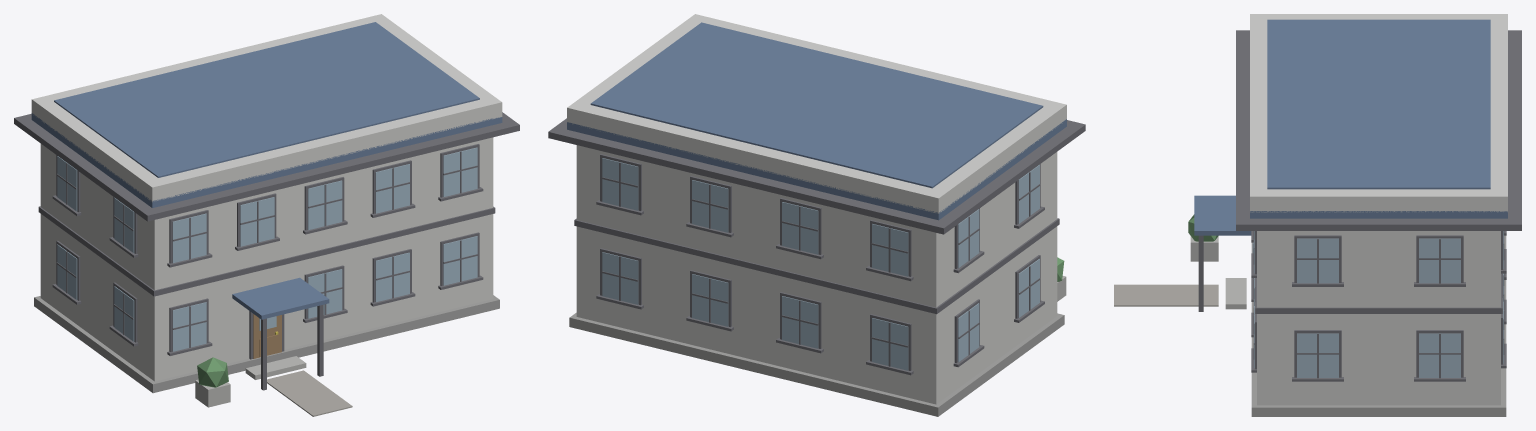
Rendered from Villa_10.glb.
3 views of the same model, side by side, from view 1: azimuth 30°, elevation 25°; view 2: azimuth 150°, elevation 25°; view 3: azimuth 270°, elevation 25° (orthographic). The views are drawn at different scales.
Parts seen in each view (by area): view 1: Villa_10; view 2: Villa_10; view 3: Villa_10.
Part boxes in pixels (<box>): Villa_10: <box>14,14,519,416</box>; Villa_10: <box>548,14,1085,416</box>; Villa_10: <box>1114,14,1521,416</box>.
Size of the model in its own units: 13.2 by 7.05 by 11.7.
